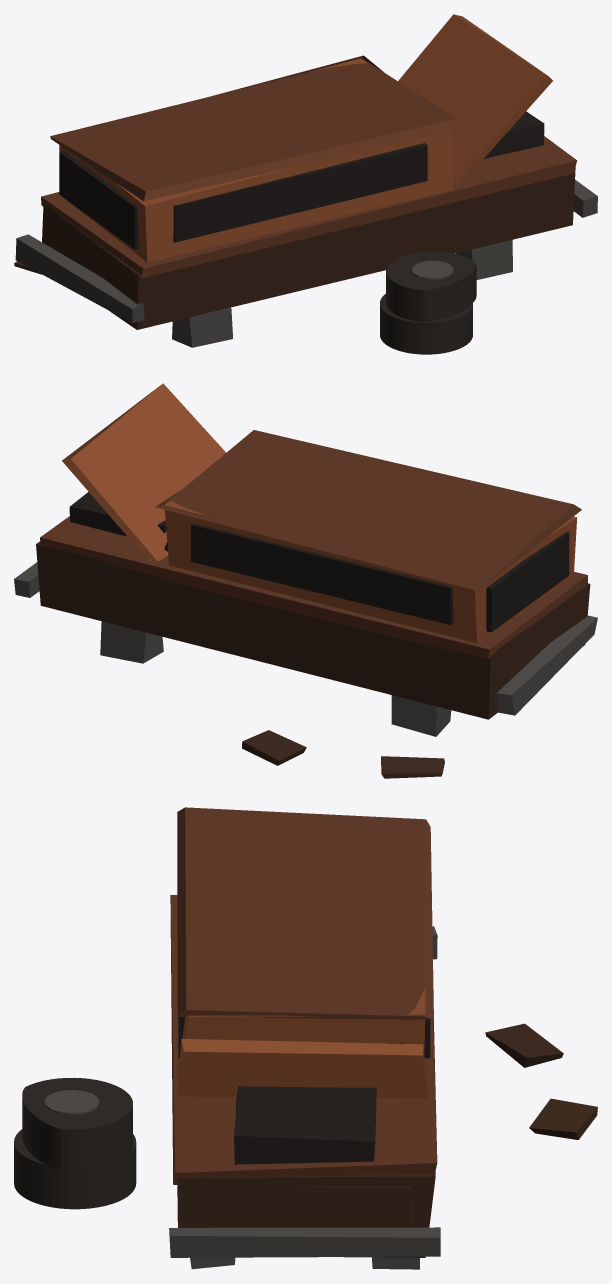
The model's file is wreck_wagon.glb.
3 views of the same model, one above another, from view 1: azimuth 30°, elevation 25°; view 2: azimuth 150°, elevation 25°; view 3: azimuth 270°, elevation 25° (orthographic). The views are drawn at different scales.
Parts seen in each view (by area): view 1: wreck_wagon; view 2: wreck_wagon; view 3: wreck_wagon.
Boxes of the visible parts, x1,y1,x2,y2 form: wreck_wagon: (14, 14, 597, 354); wreck_wagon: (14, 383, 597, 778); wreck_wagon: (14, 807, 597, 1269).
Size of the model in its own units: 4.79 by 1.81 by 3.82.
